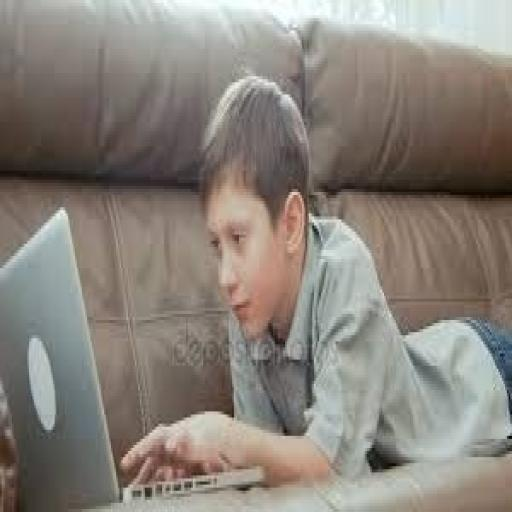using_laptop: (0, 201, 265, 509)
